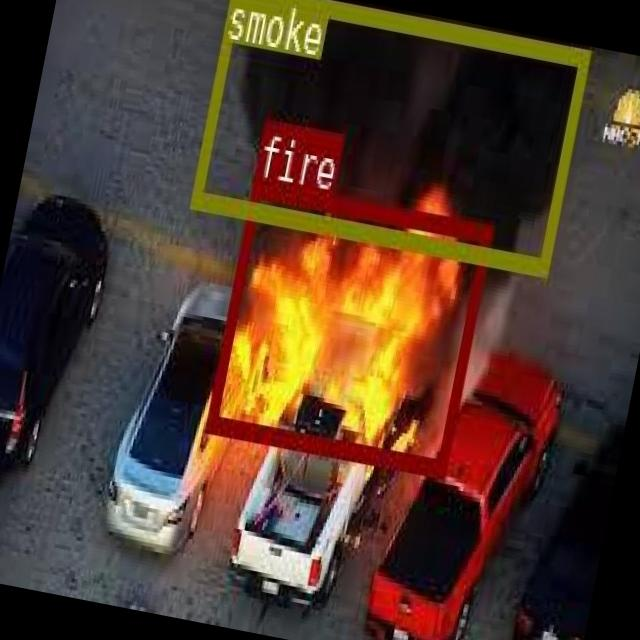fire: (204, 178, 492, 474)
smoke: (189, 0, 589, 273)
